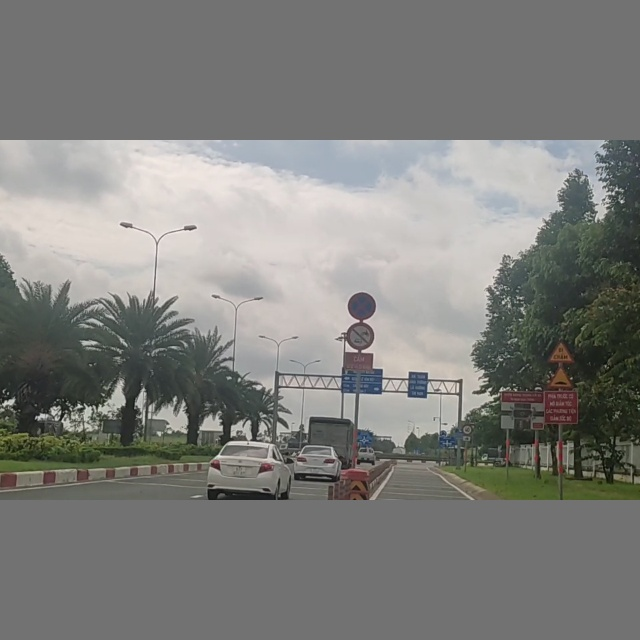P.111: (347, 322, 375, 351)
P.130: (344, 291, 378, 321)
W.221b: (548, 367, 575, 389)
W.245a: (548, 339, 575, 362)
